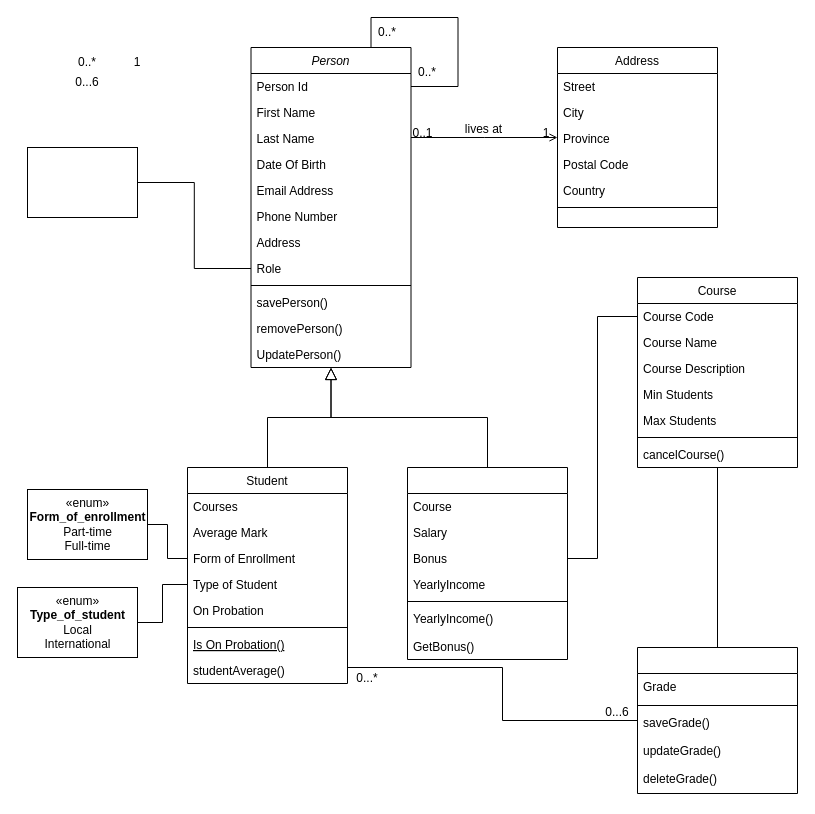
The diagram is 815 pixels wide and 814 high, and some of its shapes have lost their labels. The box of each missing label's shape, as (x1, y1, x2, y2) in pixels:
Enroll: (636, 646, 798, 794)
Professor: (406, 466, 568, 660)
«enum» Role Professor Student: (26, 146, 138, 218)
